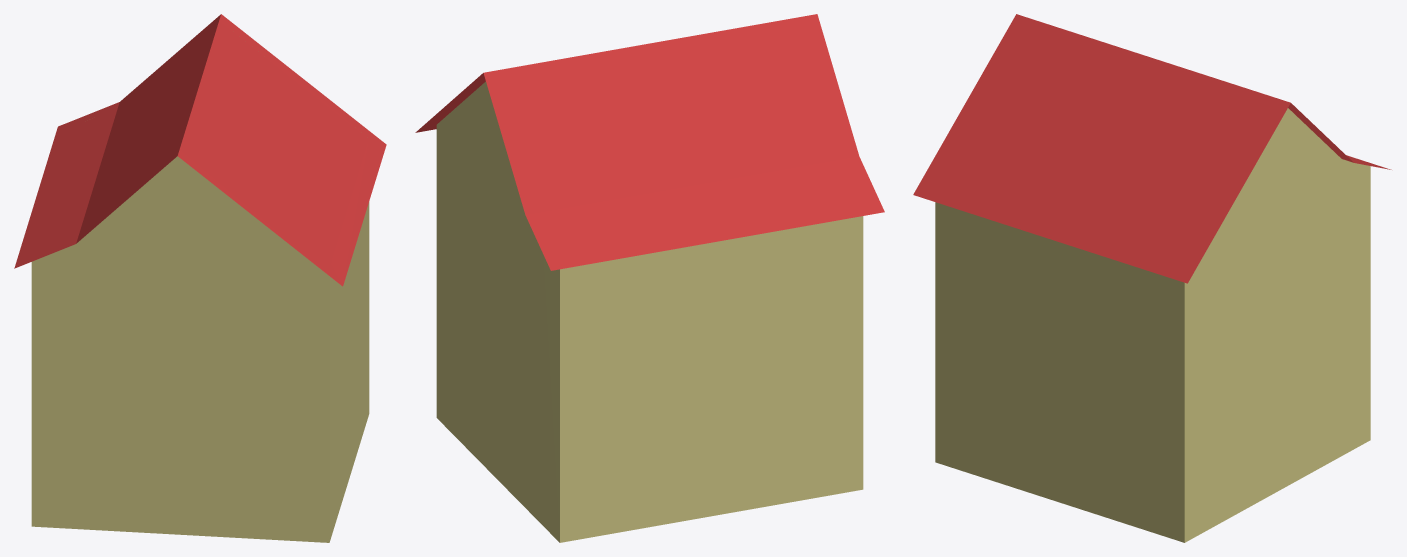
The picture shows the model from 3 angles, left to right: view 1: azimuth 30°, elevation 25°; view 2: azimuth 150°, elevation 25°; view 3: azimuth 270°, elevation 25°; orthographic projection. The views are drawn at different scales.
Bounding box in the file's own units: 7.55 × 7.57 × 6.84.
